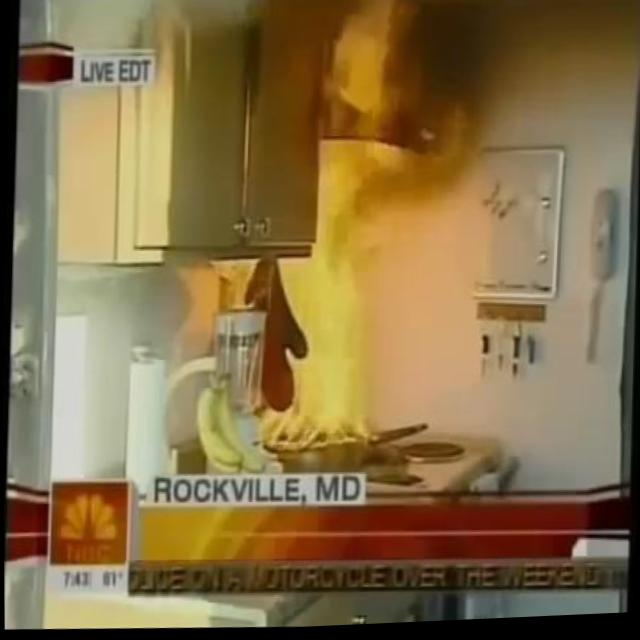fire: (271, 161, 397, 461)
